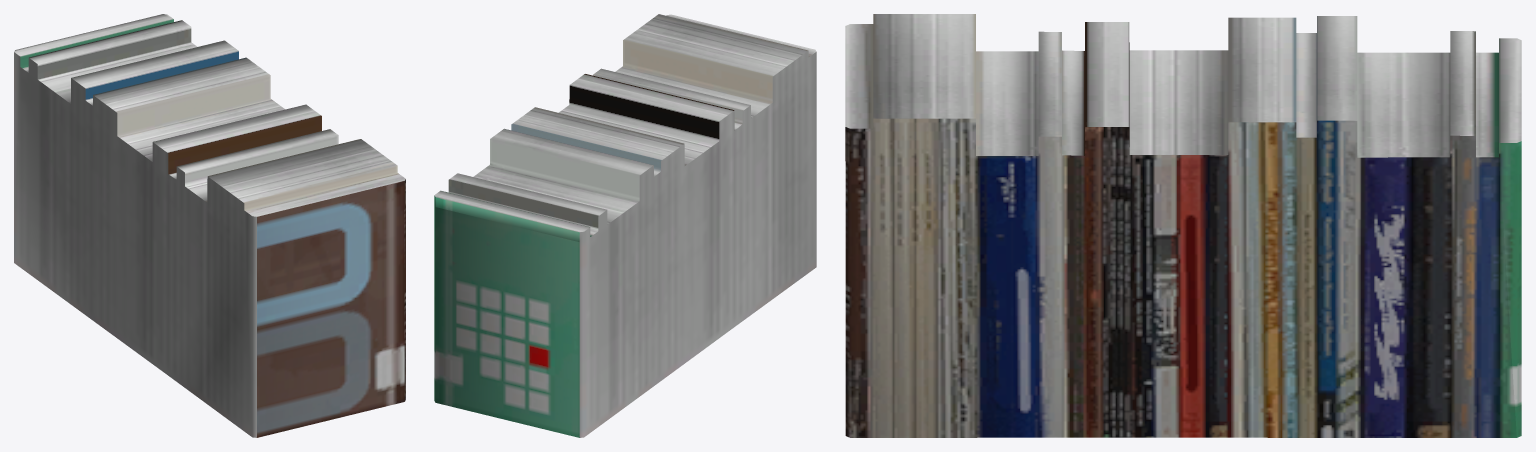
The model's file is Books01.FBX.
The picture shows the model from 3 angles, left to right: view 1: azimuth 30°, elevation 25°; view 2: azimuth 150°, elevation 25°; view 3: azimuth 270°, elevation 25°; orthographic projection. The views are drawn at different scales.
Visible parts, largest first — view 1: Books01; view 2: Books01; view 3: Books01.
Part boxes in pixels (x1,y1,x2,y2): Books01: (14,14,405,437); Books01: (434,14,816,437); Books01: (845,14,1521,437).
Bounding box in the file's own units: 0.201 × 0.2857 × 0.5483.
